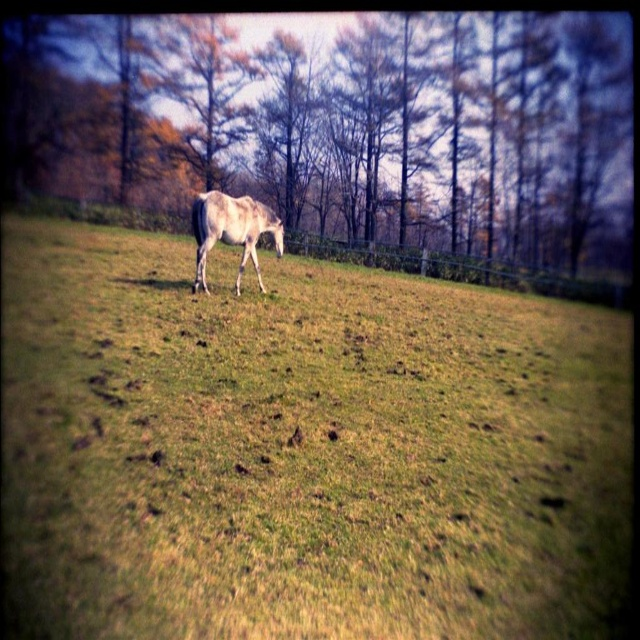Horse: (188, 188, 284, 293)
